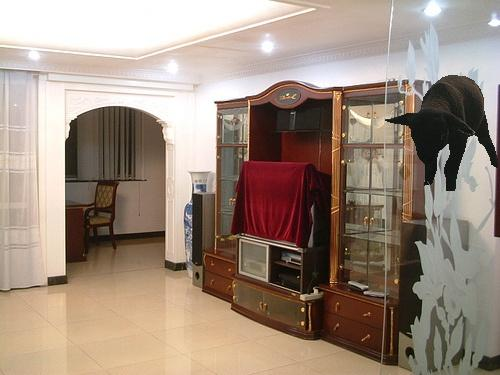tampered: (386, 76, 498, 191)
